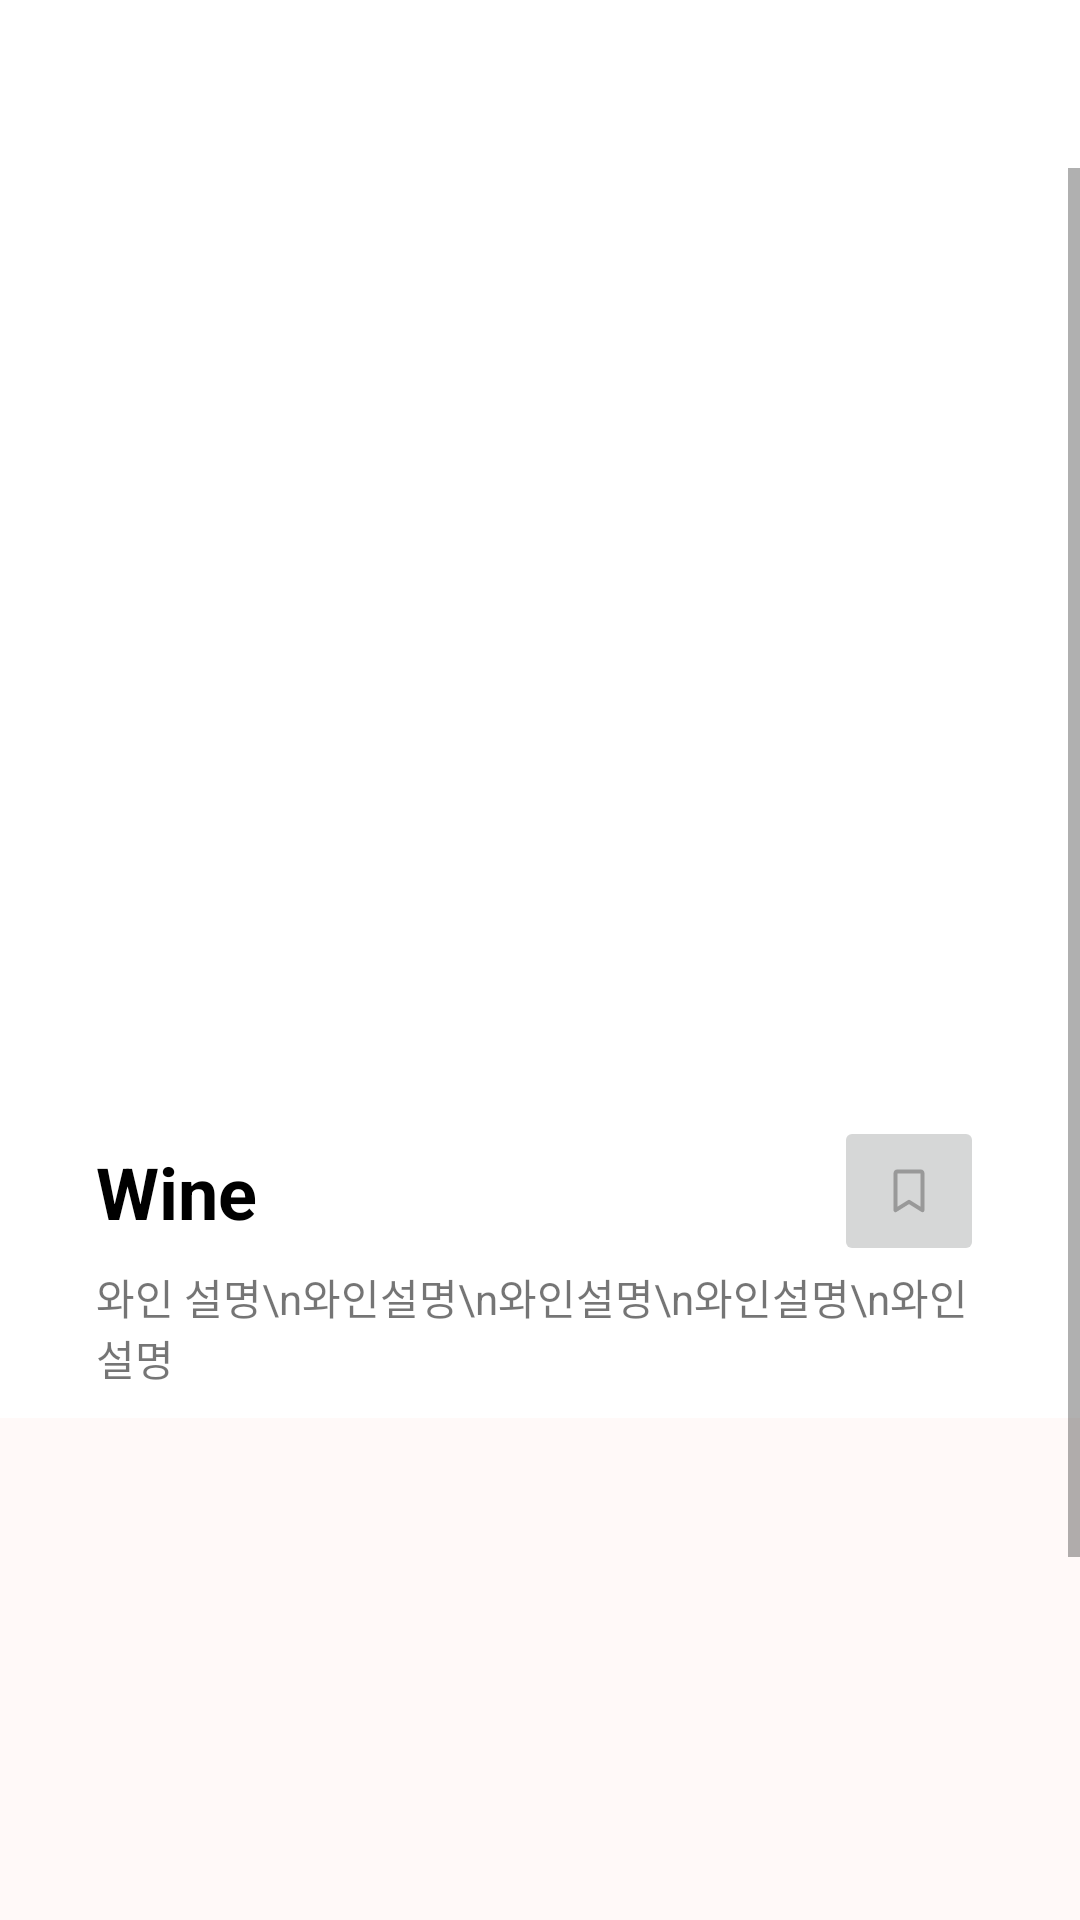

Icon bounding boxes for this 1080 x 1920 phone screenshot, format (x1, y1, x2, y2):
scrap: (846, 1134, 972, 1248)
